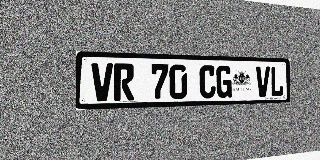0: (169, 64, 187, 99)
7: (150, 64, 169, 100)
C: (199, 65, 216, 98)
G: (216, 65, 232, 98)
L: (270, 66, 284, 97)
R: (114, 63, 134, 101)
V: (91, 63, 113, 101), (256, 66, 270, 97)
